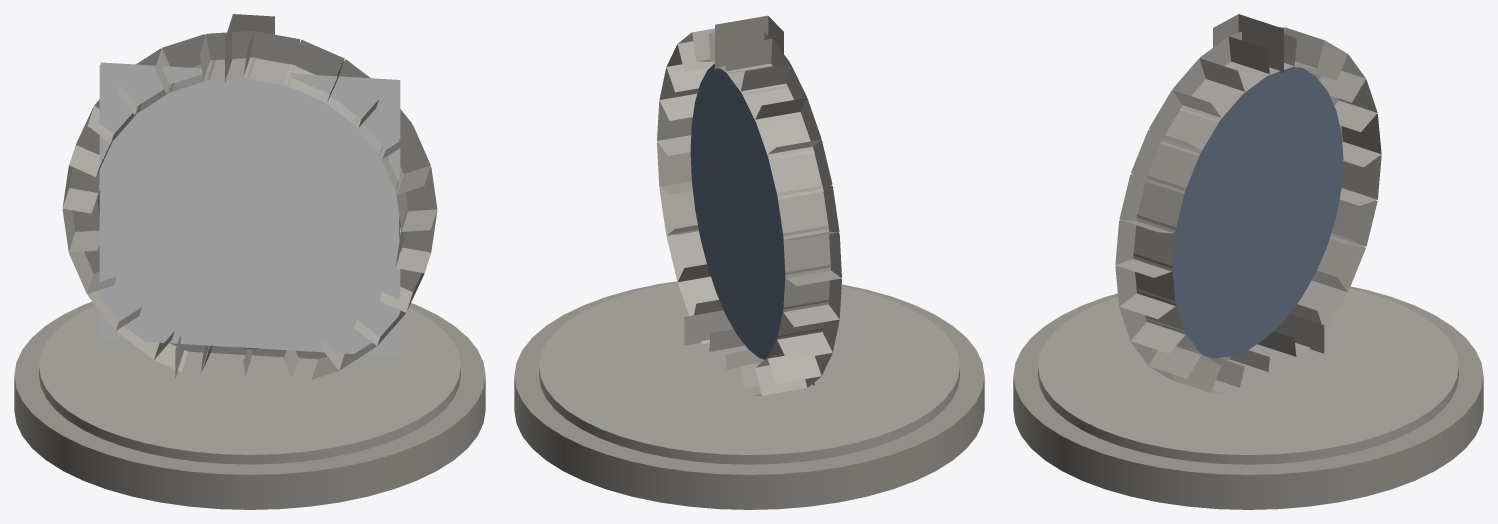
File: portal_portal04.glb
3 renders of one model, left to right at view 1: azimuth 30°, elevation 25°; view 2: azimuth 150°, elevation 25°; view 3: azimuth 270°, elevation 25°, orthographic.
Visible parts, largest first — view 1: Portal_PORTAL04_mesh, Veil, _MeshInstance3D_15; view 2: Portal_PORTAL04_mesh; view 3: Portal_PORTAL04_mesh.
Boxes of the visible parts, box(x1,y1,x2,y2) form: Portal_PORTAL04_mesh: box(14, 14, 485, 509); Veil: box(99, 65, 399, 356); _MeshInstance3D_15: box(100, 62, 400, 353); Portal_PORTAL04_mesh: box(514, 15, 984, 509); Portal_PORTAL04_mesh: box(1013, 14, 1483, 509).
Size of the model in its own units: 6.7 by 6.01 by 6.7.
